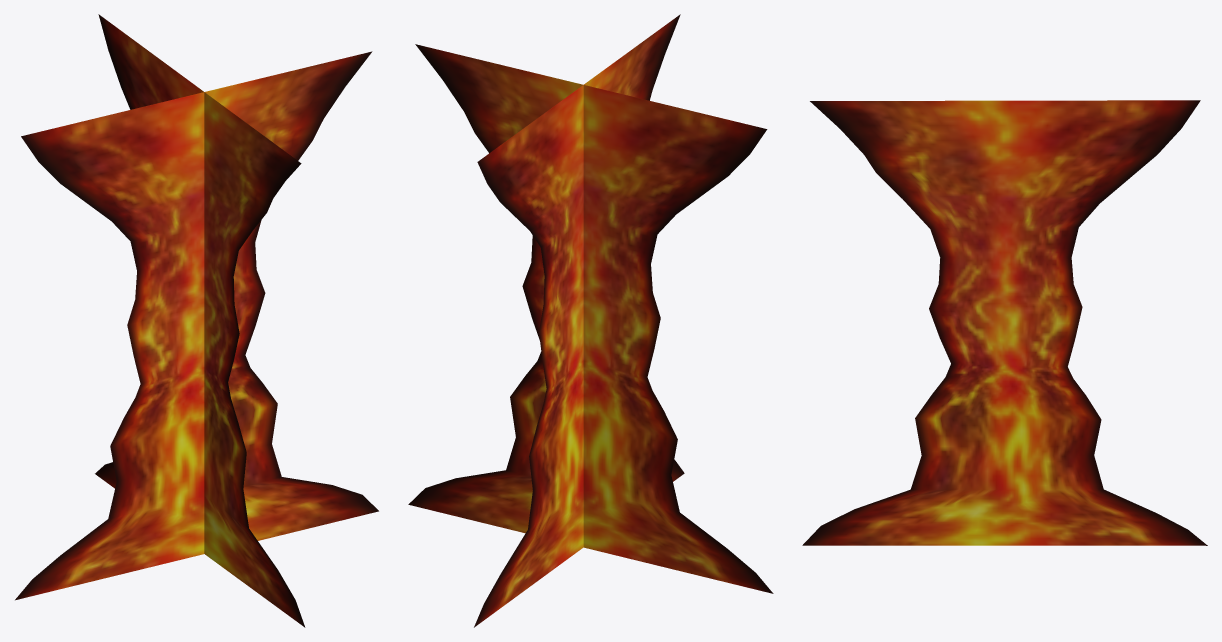
File: longjuanfeng_bm02.FBX
3 views of the same model, side by side, from view 1: azimuth 30°, elevation 25°; view 2: azimuth 150°, elevation 25°; view 3: azimuth 270°, elevation 25° (orthographic). The views are drawn at different scales.
Parts seen in each view (by area): view 1: bm_longjuanfengdi01; view 2: bm_longjuanfengdi01; view 3: bm_longjuanfengdi01.
Part boxes in pixels (box(x1,y1,x2,y2)): bm_longjuanfengdi01: box(15, 14, 378, 627); bm_longjuanfengdi01: box(408, 14, 773, 627); bm_longjuanfengdi01: box(802, 100, 1207, 545).
Bounding box in the file's own units: 172 × 208 × 172.
Materials: 1 (1 with a texture image).
